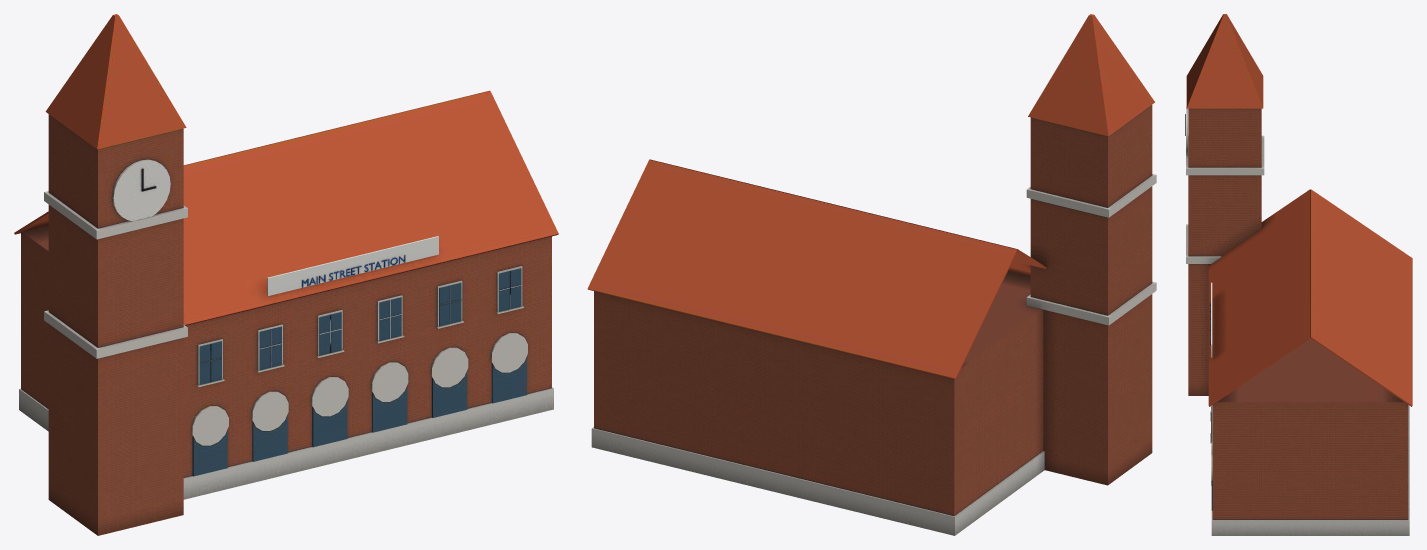
Rendered from estacion_main_st.glb.
The picture shows the model from 3 angles, left to right: view 1: azimuth 30°, elevation 25°; view 2: azimuth 150°, elevation 25°; view 3: azimuth 270°, elevation 25°; orthographic projection. The views are drawn at different scales.
Parts seen in each view (by area): view 1: estacion_main_st; view 2: estacion_main_st; view 3: estacion_main_st.
Part boxes in pixels (x1=…): estacion_main_st: x1=14, y1=14, x2=558, y2=535; estacion_main_st: x1=587, y1=14, x2=1156, y2=535; estacion_main_st: x1=1185, y1=14, x2=1412, y2=535.
Size of the model in its own units: 33.5 by 33 by 18.58.
Materials: 1 (1 with a texture image).
